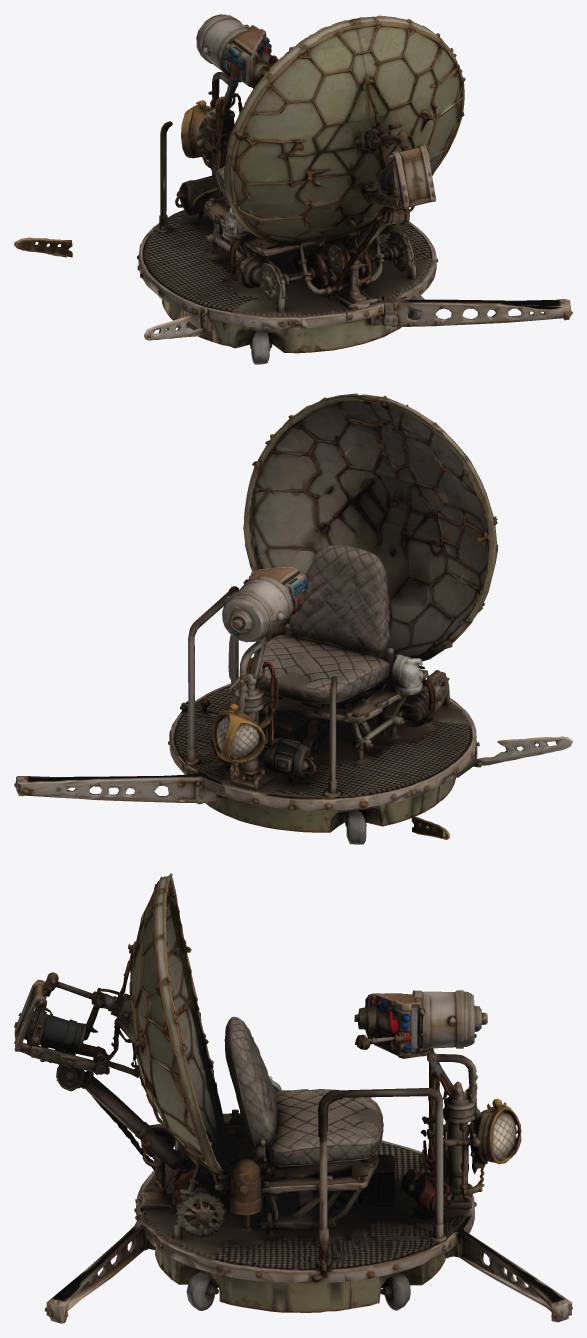
The picture shows the model from 3 angles, top to bottom: view 1: azimuth 30°, elevation 25°; view 2: azimuth 150°, elevation 25°; view 3: azimuth 270°, elevation 25°; orthographic projection. The views are drawn at different scales.
Parts seen in each view (by area): view 1: geometry_0; view 2: geometry_0; view 3: geometry_0.
Boxes of the visible parts, box(x1,y1,x2,y2) form: geometry_0: box(14, 14, 572, 364); geometry_0: box(14, 393, 572, 844); geometry_0: box(14, 873, 572, 1323).
Bounding box in the file's own units: 0.8904 × 0.7427 × 0.9996.
1 material, 1 textured.
